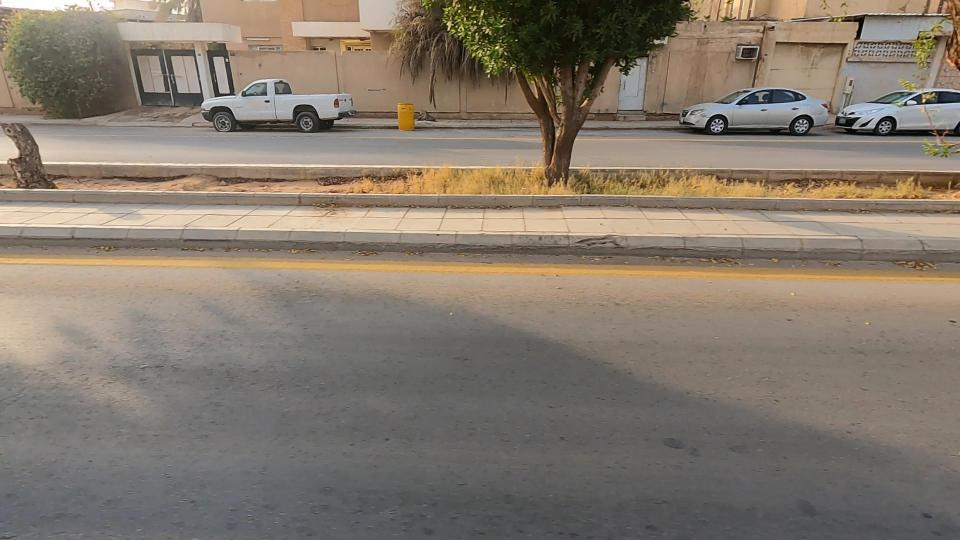GARBAGE: (364, 77, 442, 155)
